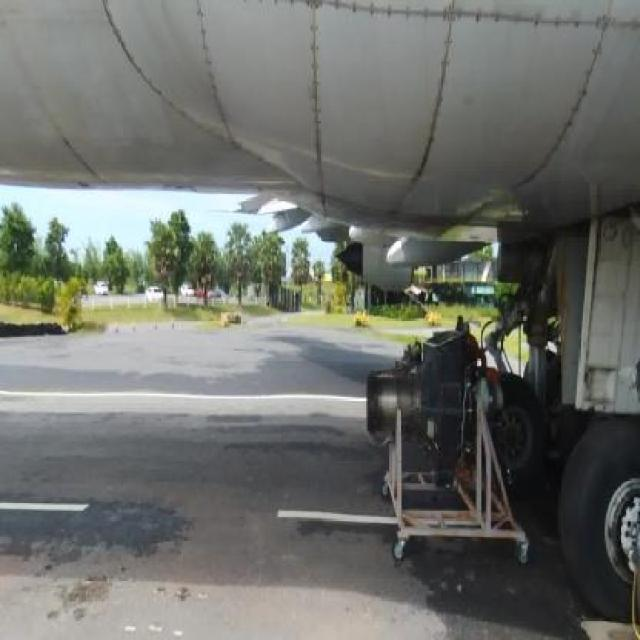Missing-Rivet: (520, 37, 618, 185), (392, 34, 463, 214), (300, 0, 345, 212), (188, 1, 244, 167), (355, 2, 640, 29)
